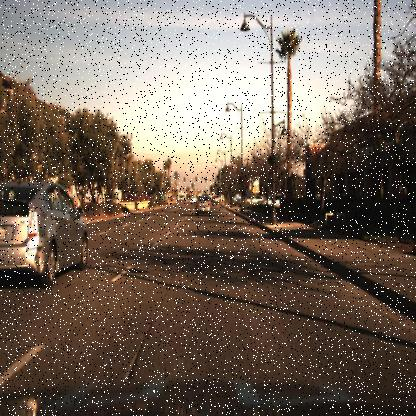car: (0, 175, 94, 291), (258, 186, 290, 214), (192, 190, 214, 216)
